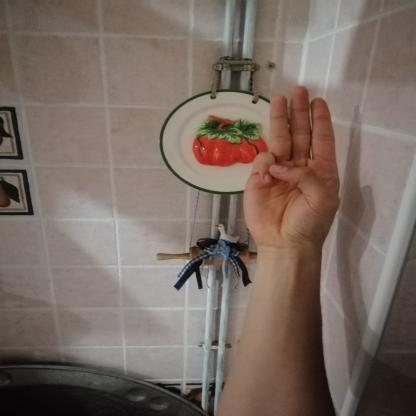THA: (227, 78, 354, 257)
